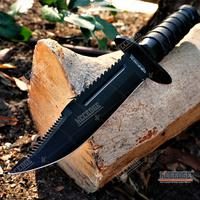knife: (7, 10, 181, 177)
